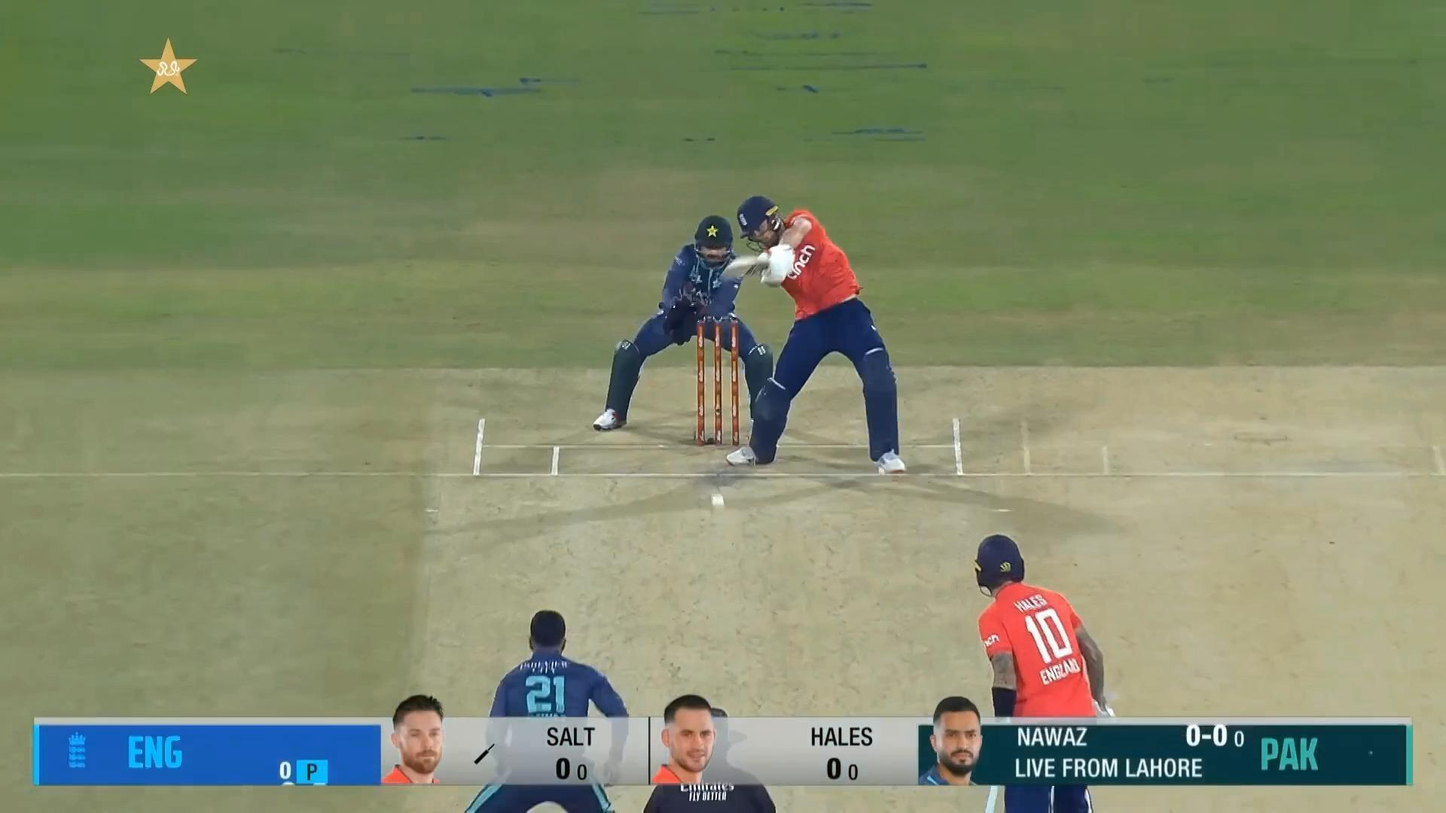BM 1: (719, 195, 907, 475)
BO: (461, 605, 635, 813)
